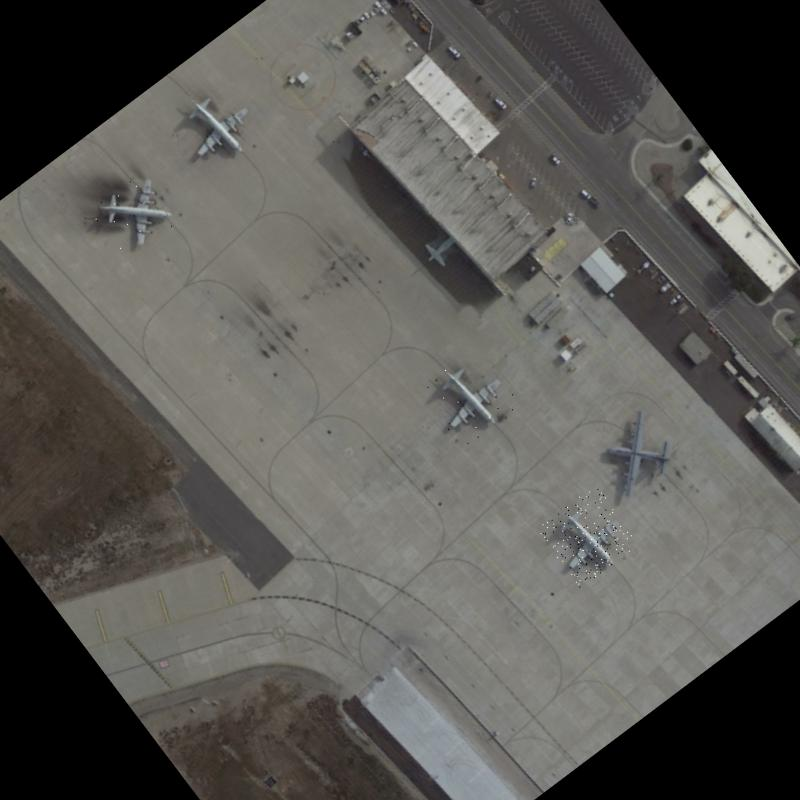A2: (580, 400, 688, 508)
A9: (160, 70, 270, 180), (418, 344, 522, 448), (536, 484, 640, 588), (86, 163, 184, 261)
